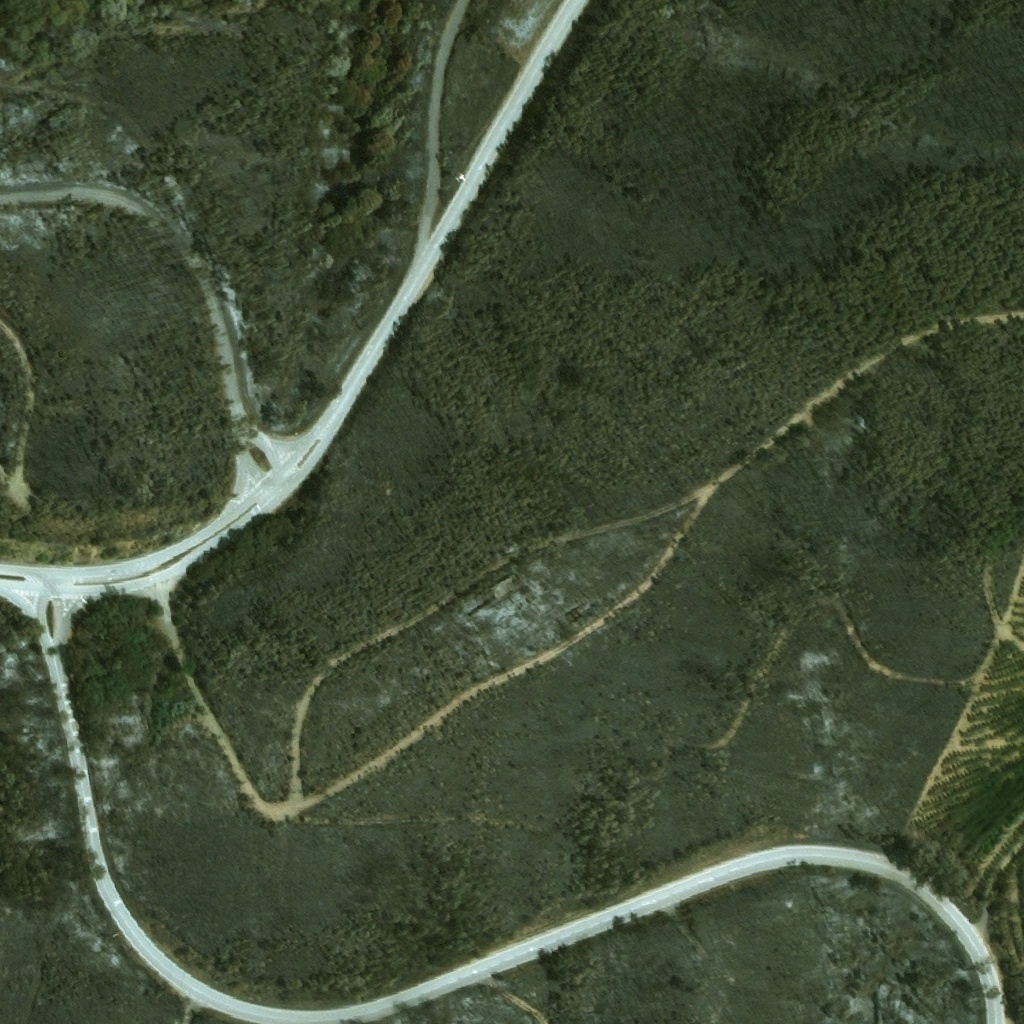3 destroyed: (486, 574, 520, 601)
